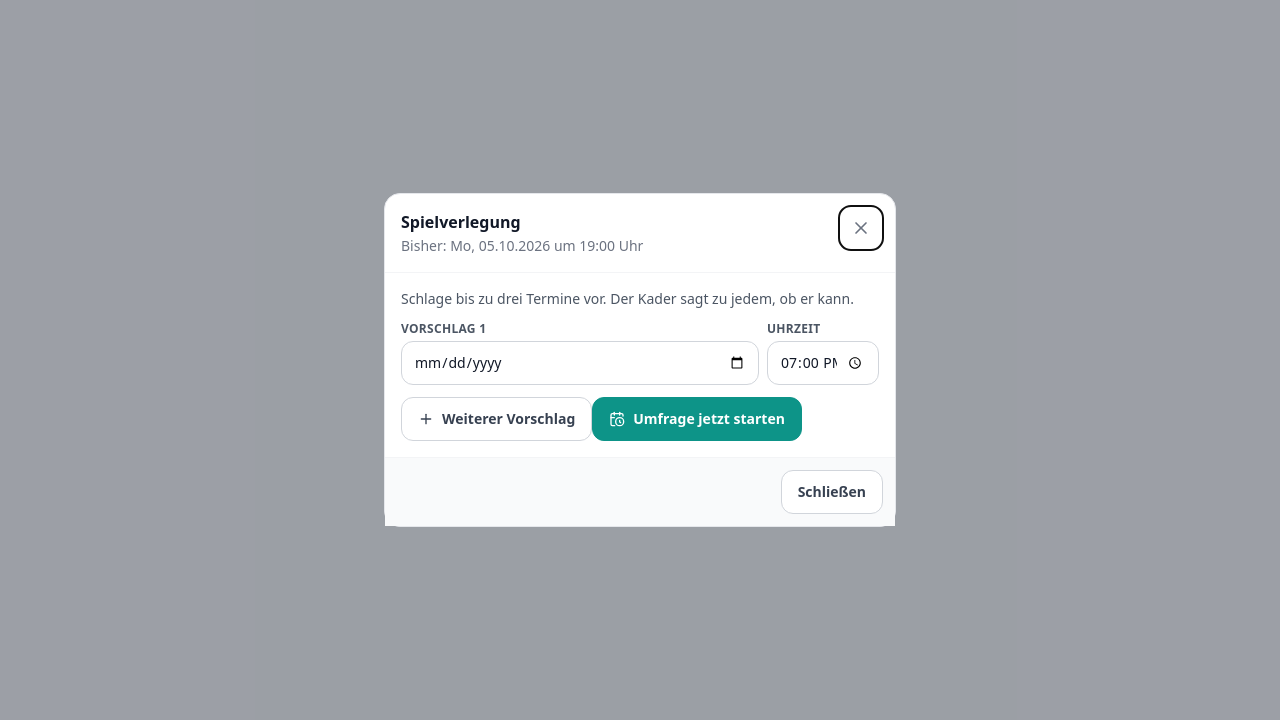
Test: RescheduleDialog › verlangt mindestens einen Termin
The width and height of the screenshot is (1280, 720).
What coordinates should you click on to do the following:
click the button "Umfrage jetzt starten"
I would click on:
 (697, 419)
Its box is x1=592 y1=397 x2=802 y2=441.
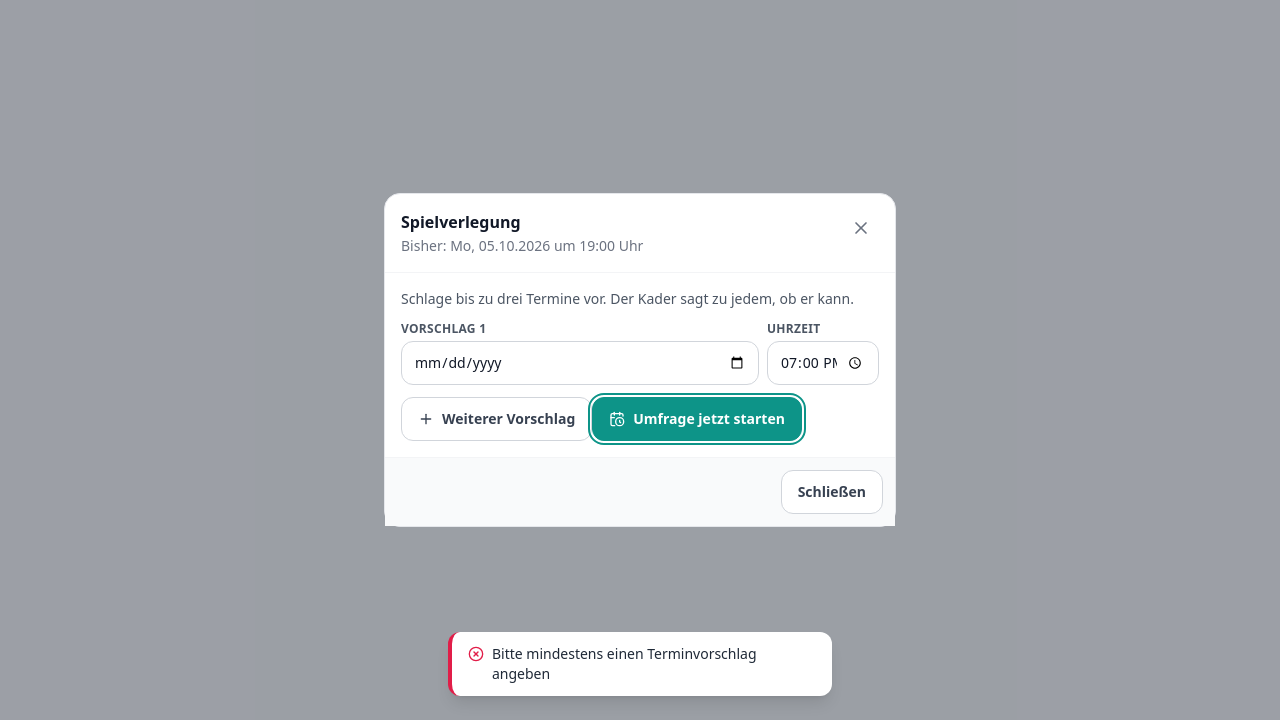
Expected: the text "Bitte mindestens einen Terminvorschlag angeben" is shown, x1=492 y1=644 x2=757 y2=683
